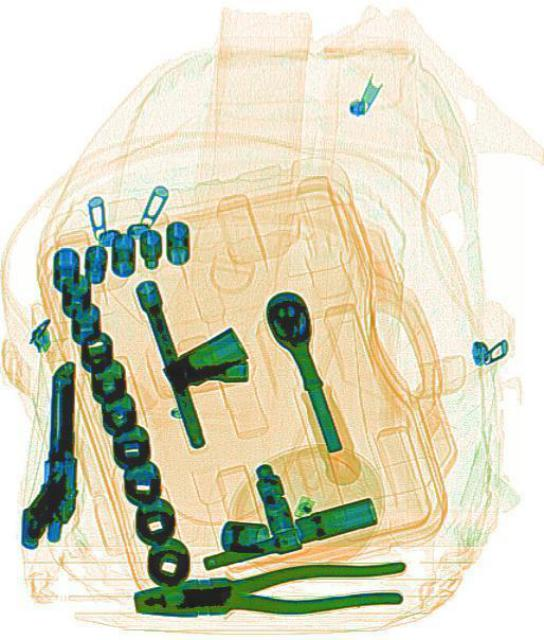Gun: (18, 361, 77, 547)
Pliers: (131, 556, 405, 628)
